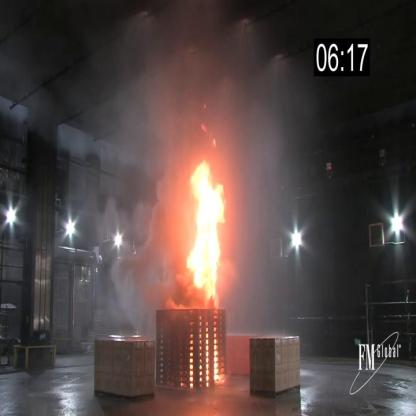fire: (183, 149, 231, 307), (212, 340, 220, 387)
